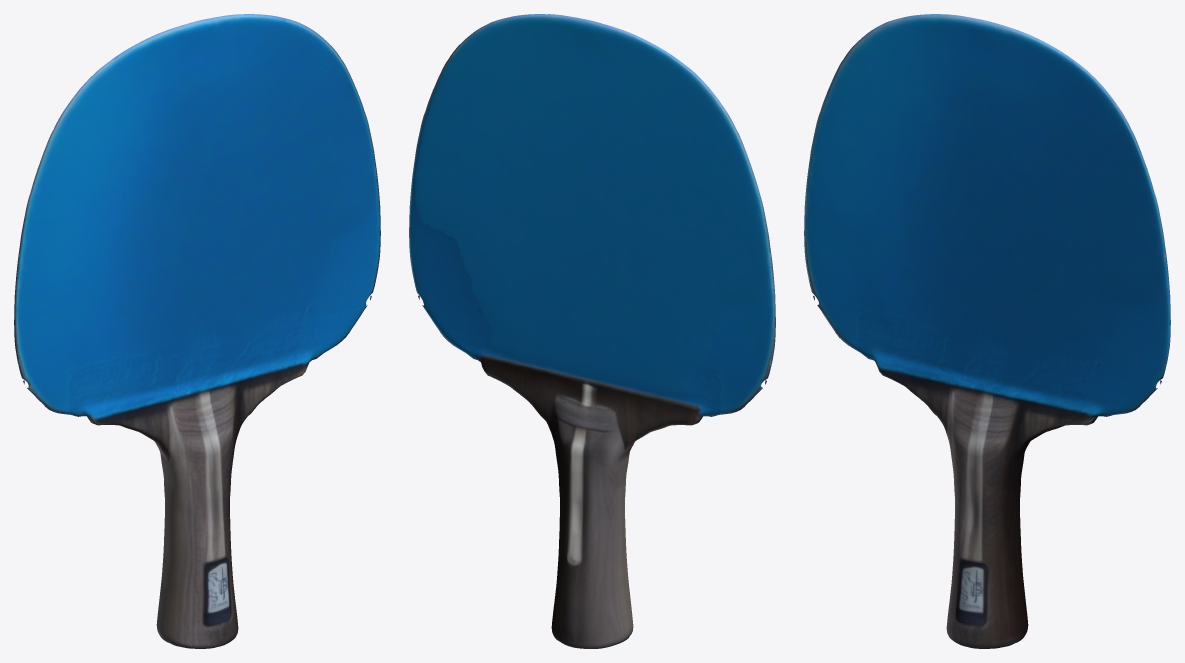
Rendered from blue_paddle.glb.
3 renders of one model, left to right at view 1: azimuth 30°, elevation 25°; view 2: azimuth 150°, elevation 25°; view 3: azimuth 330°, elevation 25°, orthographic.
Visible parts, largest first — view 1: Mesh1_Mesh1.046; view 2: Mesh1_Mesh1.046; view 3: Mesh1_Mesh1.046.
Part boxes in pixels (bbox=[...]): Mesh1_Mesh1.046: bbox=[14, 14, 380, 648]; Mesh1_Mesh1.046: bbox=[409, 14, 775, 648]; Mesh1_Mesh1.046: bbox=[804, 14, 1170, 648].
Bounding box in the file's own units: 1.25 × 2 × 0.2475.
Materials: 1 (1 with a texture image).
